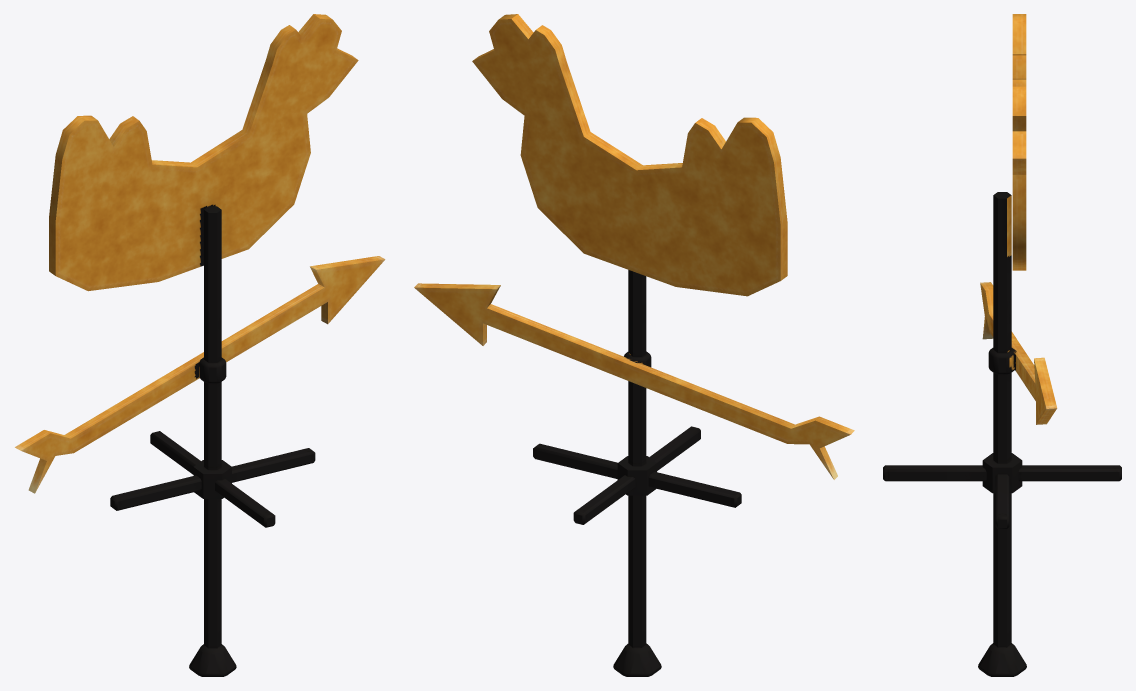
File: weathervane.glb
The picture shows the model from 3 angles, left to right: view 1: azimuth 30°, elevation 25°; view 2: azimuth 150°, elevation 25°; view 3: azimuth 270°, elevation 25°; orthographic projection. The views are drawn at different scales.
Parts seen in each view (by area): view 1: weathervane; view 2: weathervane; view 3: weathervane.
Part boxes in pixels (bbox=[...]): weathervane: bbox=[15, 14, 385, 676]; weathervane: bbox=[414, 14, 854, 676]; weathervane: bbox=[883, 14, 1121, 676].
Size of the model in its own units: 0.834 by 1.24 by 0.42.
Materials: 1 (1 with a texture image).
